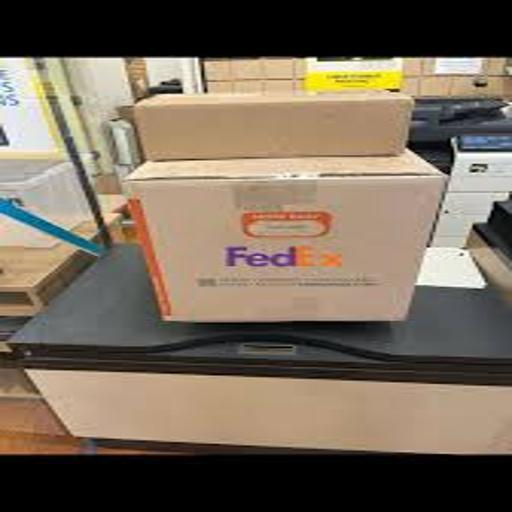FedEx: (132, 167, 442, 326)
